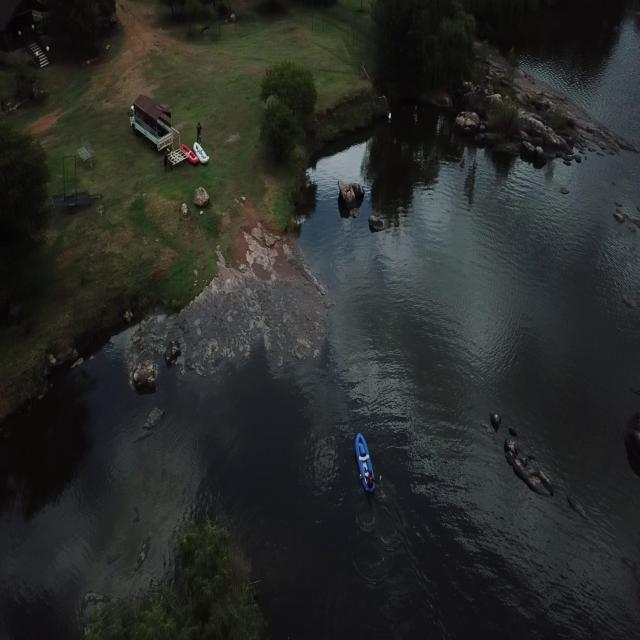kayak: (353, 429, 379, 494)
